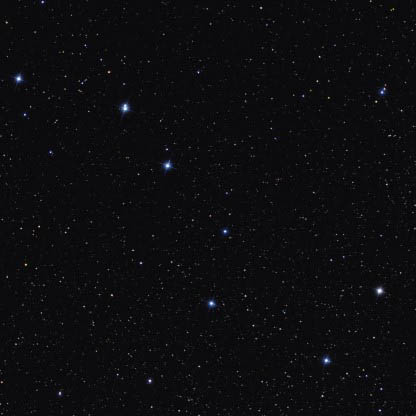Ursa Major: (148, 147, 177, 183), (313, 345, 344, 375), (196, 288, 225, 317), (110, 90, 136, 120), (366, 275, 391, 305), (212, 220, 237, 246), (9, 66, 29, 94)
